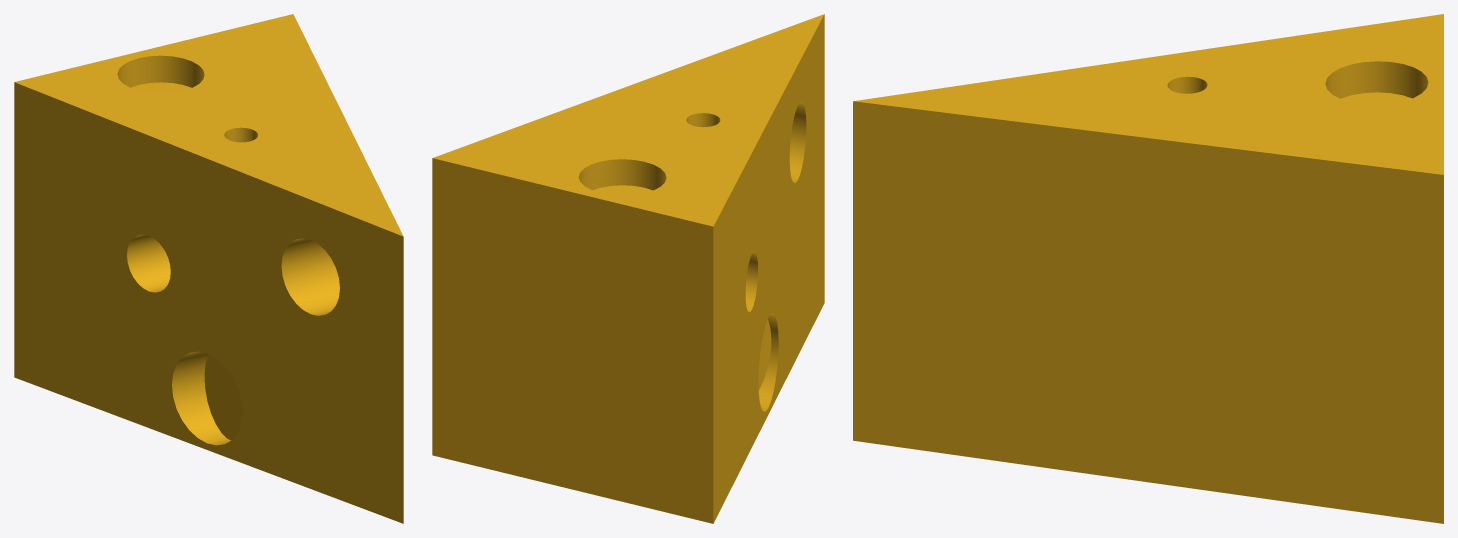
File: 4 cheese.fbx
3 renders of one model, left to right at view 1: azimuth 30°, elevation 25°; view 2: azimuth 150°, elevation 25°; view 3: azimuth 270°, elevation 25°, orthographic. The views are drawn at different scales.
Parts seen in each view (by area): view 1: 4 cheese; view 2: 4 cheese; view 3: 4 cheese.
Part boxes in pixels (x1,y1,x2,y2): 4 cheese: (14, 14, 403, 523); 4 cheese: (432, 14, 824, 523); 4 cheese: (853, 14, 1443, 523).
Bounding box in the file's own units: 4.59 × 4.64 × 7.12.
